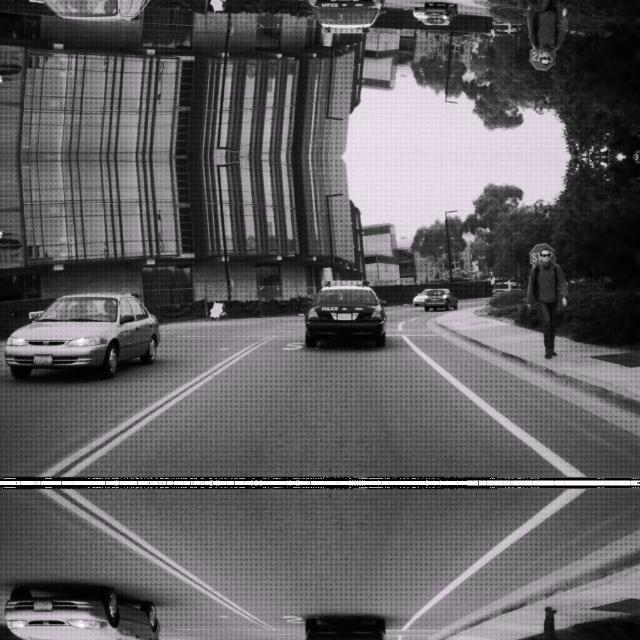stop: (530, 242, 556, 268), (530, 44, 556, 70)
